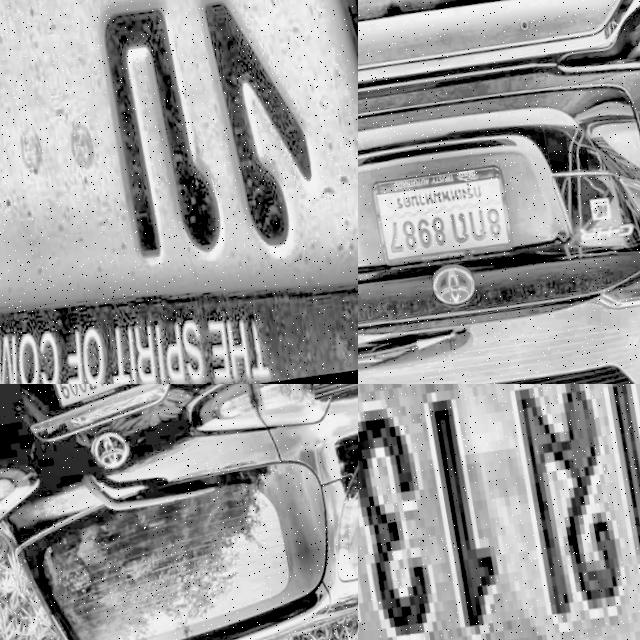license-plate: (0, 0, 358, 384), (358, 384, 640, 640), (367, 155, 514, 273), (37, 384, 146, 415)
